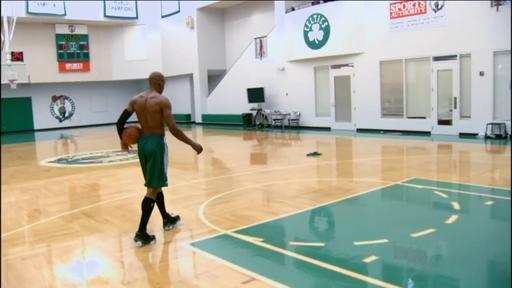ball: (122, 124, 140, 144)
human: (116, 71, 203, 246)
rim: (12, 78, 18, 89)
